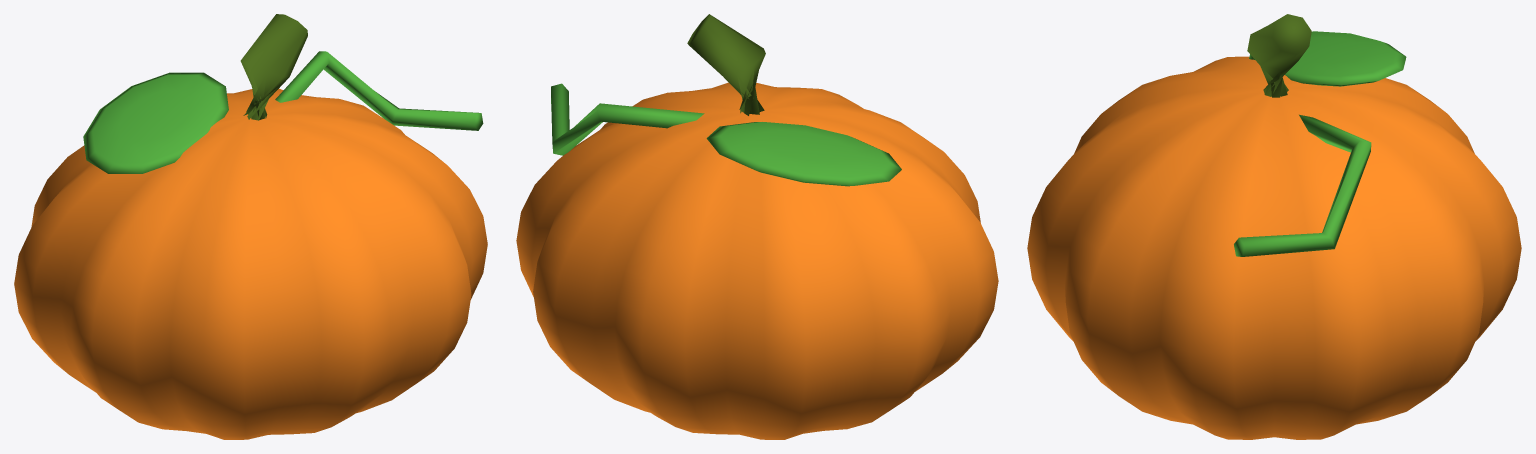
The model's file is P_Pumpkin.fbx.
3 views of the same model, side by side, from view 1: azimuth 30°, elevation 25°; view 2: azimuth 150°, elevation 25°; view 3: azimuth 270°, elevation 25° (orthographic). The views are drawn at different scales.
Parts seen in each view (by area): view 1: P_Pumpkin__Pumpkin, P_Pumpkin__Leaf, P_Pumpkin__Stem; view 2: P_Pumpkin__Pumpkin, P_Pumpkin__Leaf, P_Pumpkin__Stem; view 3: P_Pumpkin__Pumpkin, P_Pumpkin__Leaf, P_Pumpkin__Stem.
Part boxes in pixels (box(x1,y1,x2,y2)): P_Pumpkin__Pumpkin: box(14, 88, 487, 439); P_Pumpkin__Leaf: box(83, 51, 483, 173); P_Pumpkin__Stem: box(240, 14, 307, 120); P_Pumpkin__Pumpkin: box(516, 82, 998, 439); P_Pumpkin__Leaf: box(551, 83, 901, 186); P_Pumpkin__Stem: box(687, 14, 765, 115); P_Pumpkin__Pumpkin: box(1027, 56, 1521, 439); P_Pumpkin__Leaf: box(1234, 31, 1406, 256); P_Pumpkin__Stem: box(1247, 14, 1311, 97).
Size of the model in its own units: 2.96 by 2.6 by 2.8.
